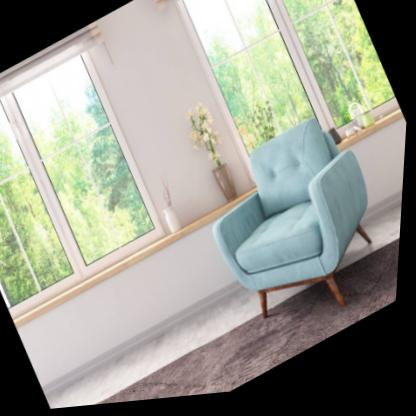Window: (0, 39, 177, 318), (165, 0, 407, 198)
